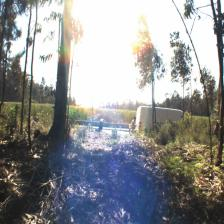trunktrack_idkeyframe: (44, 34, 70, 138), (215, 38, 224, 166)
